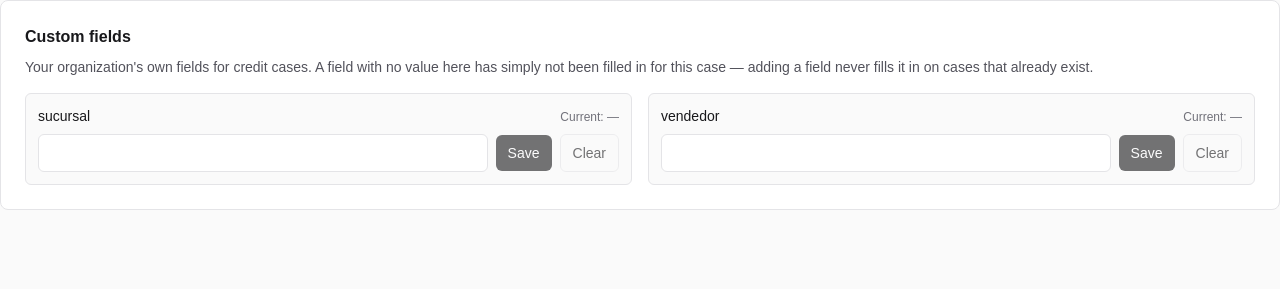
Test: CustomFieldsPanel › surfaces the API's own message when a save fails
Type "MTY Norte" into the field labelled "sucursal".
click(263, 153); type("MTY Norte")  # box x1=38 y1=134 x2=488 y2=172
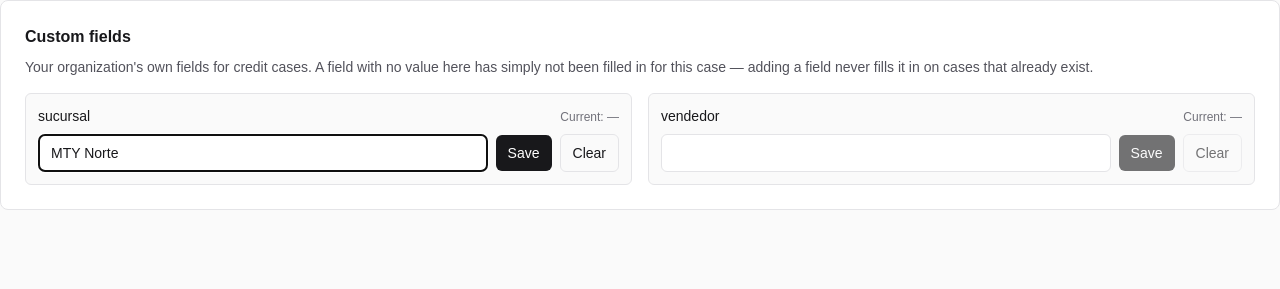
Click the 1st button "Save".
click(524, 153)  # box x1=496 y1=135 x2=552 y2=171
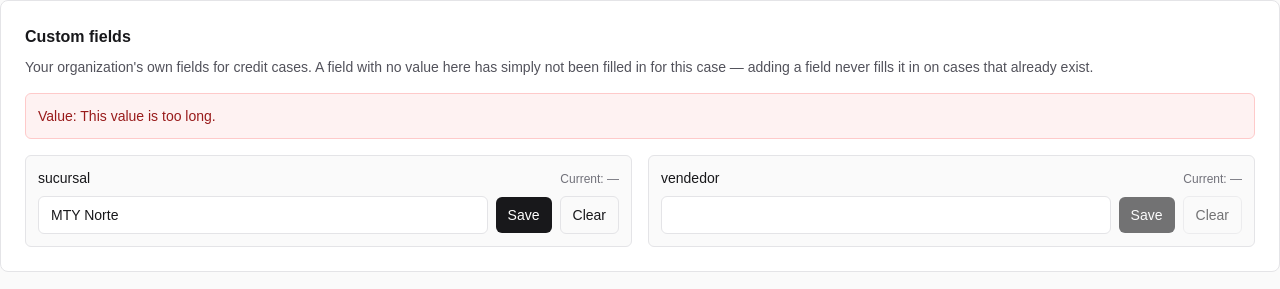
Expected: the text "Value: This value is too long." is shown, x1=25 y1=93 x2=1255 y2=139
